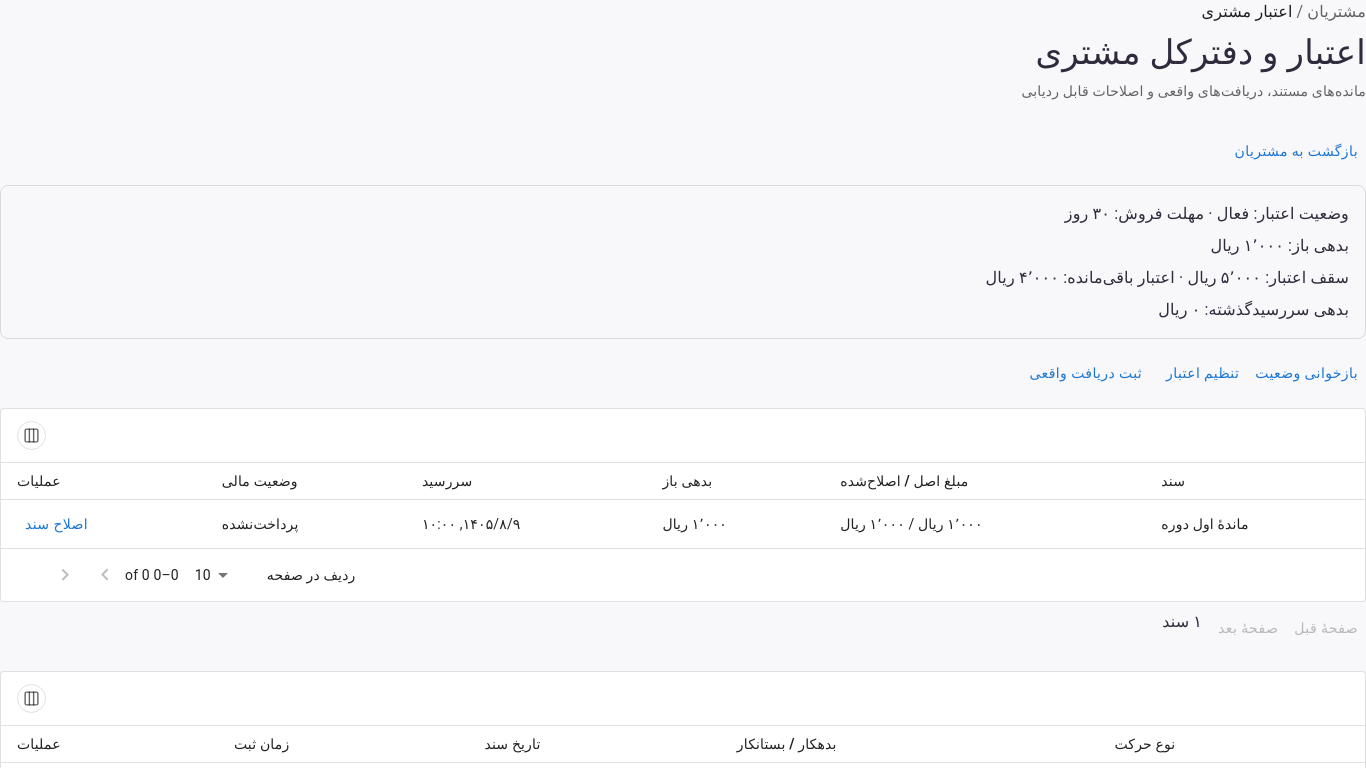
Test case: Credit operator workflow and ambiguous outcome recovery › does not replay an ambiguous write if reconciliation itself fails
Click the button "ثبت دریافت واقعی" at (1086, 374), box [1022,355,1150,392]
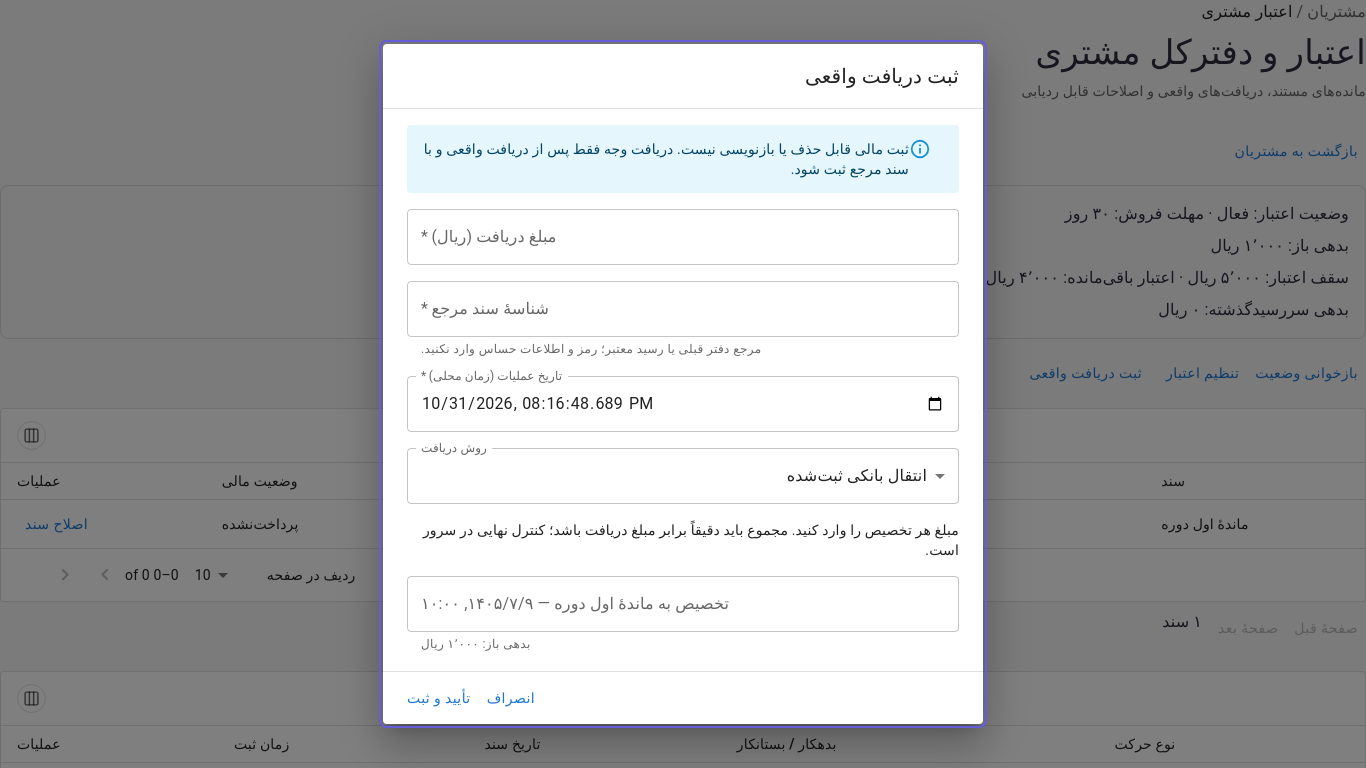
Type "500" into the field labelled "مبلغ دریافت (ریال)" at (683, 237), box [407,209,959,265]
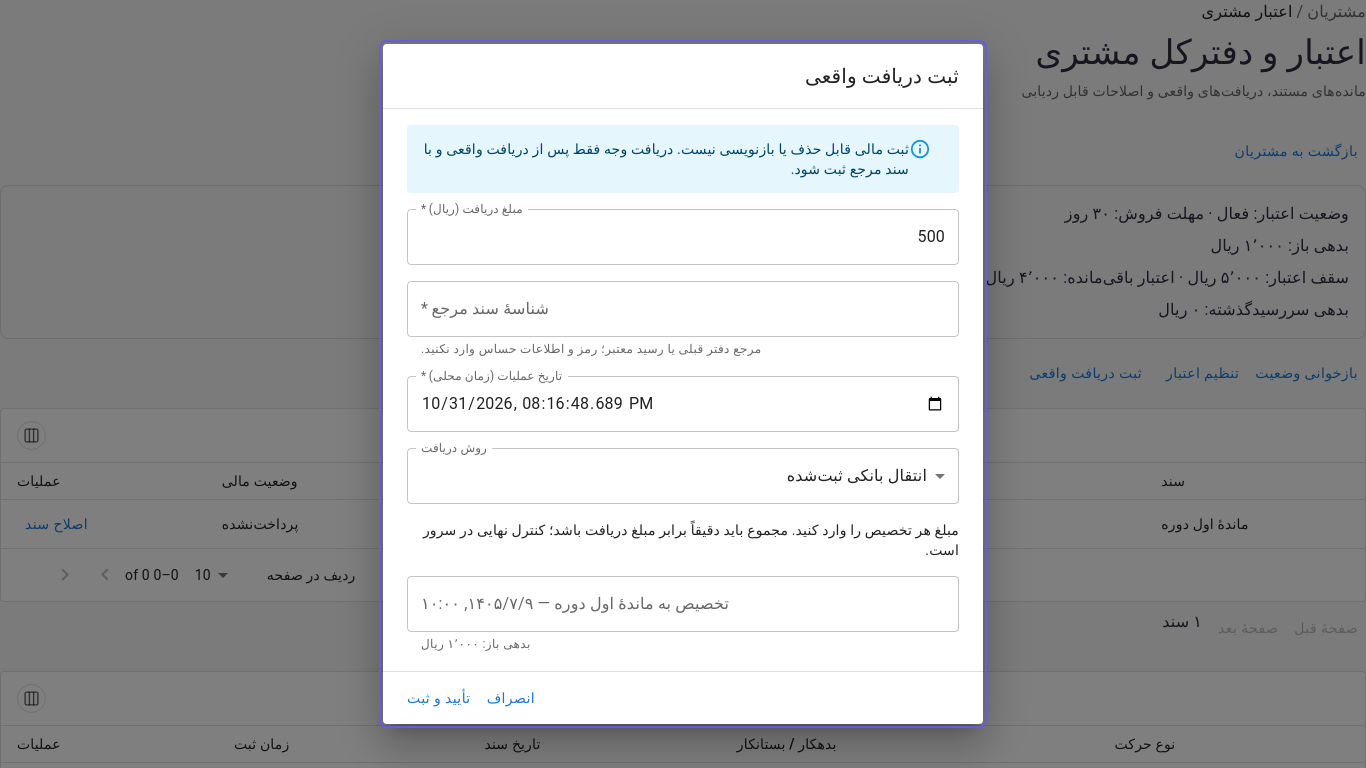
Type "isolated-receipt-reference" into the field labelled "شناسهٔ سند مرجع" at (683, 309), box [407,281,959,337]
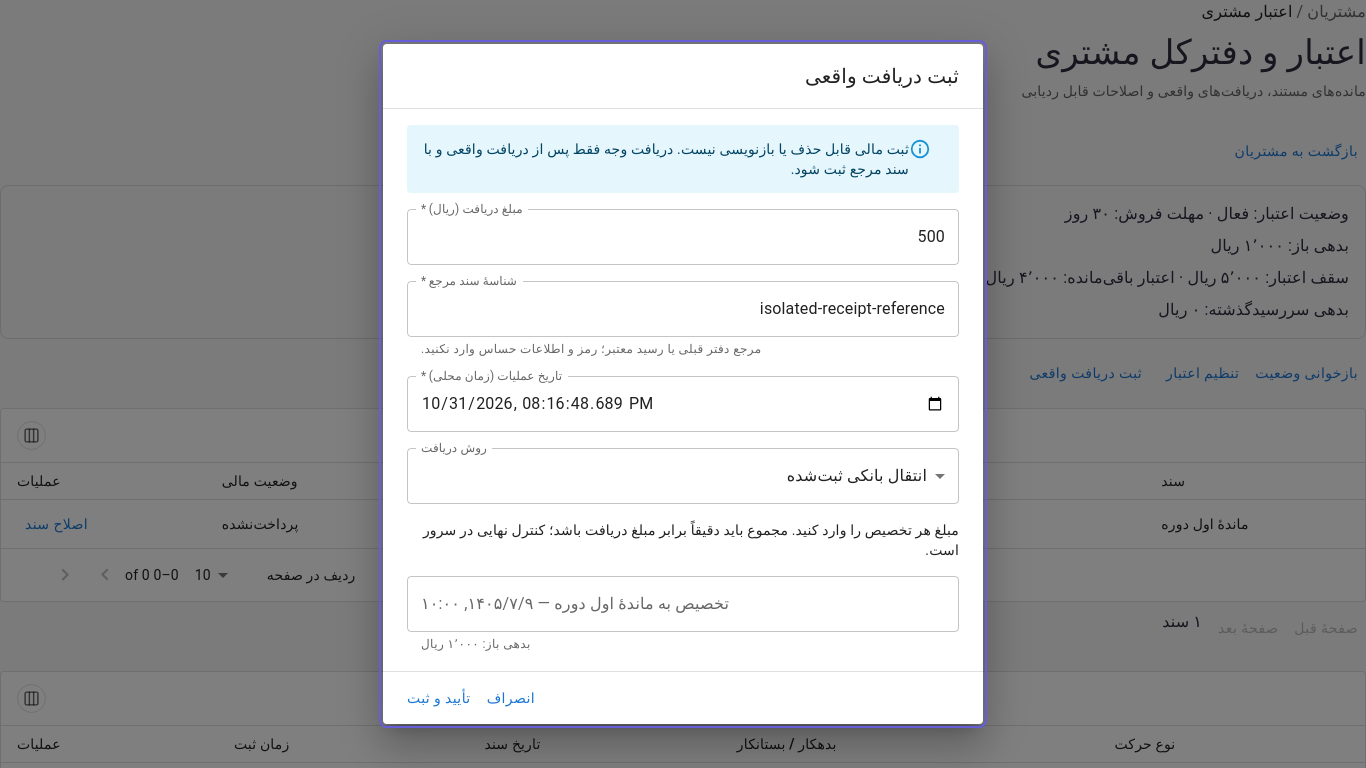
Type "500" into the field labelled "تخصیص به ماندهٔ اول دوره — ۱۴۰۵/۷/۹, ۱۰:۰۰" at (683, 604), box [407,576,959,632]
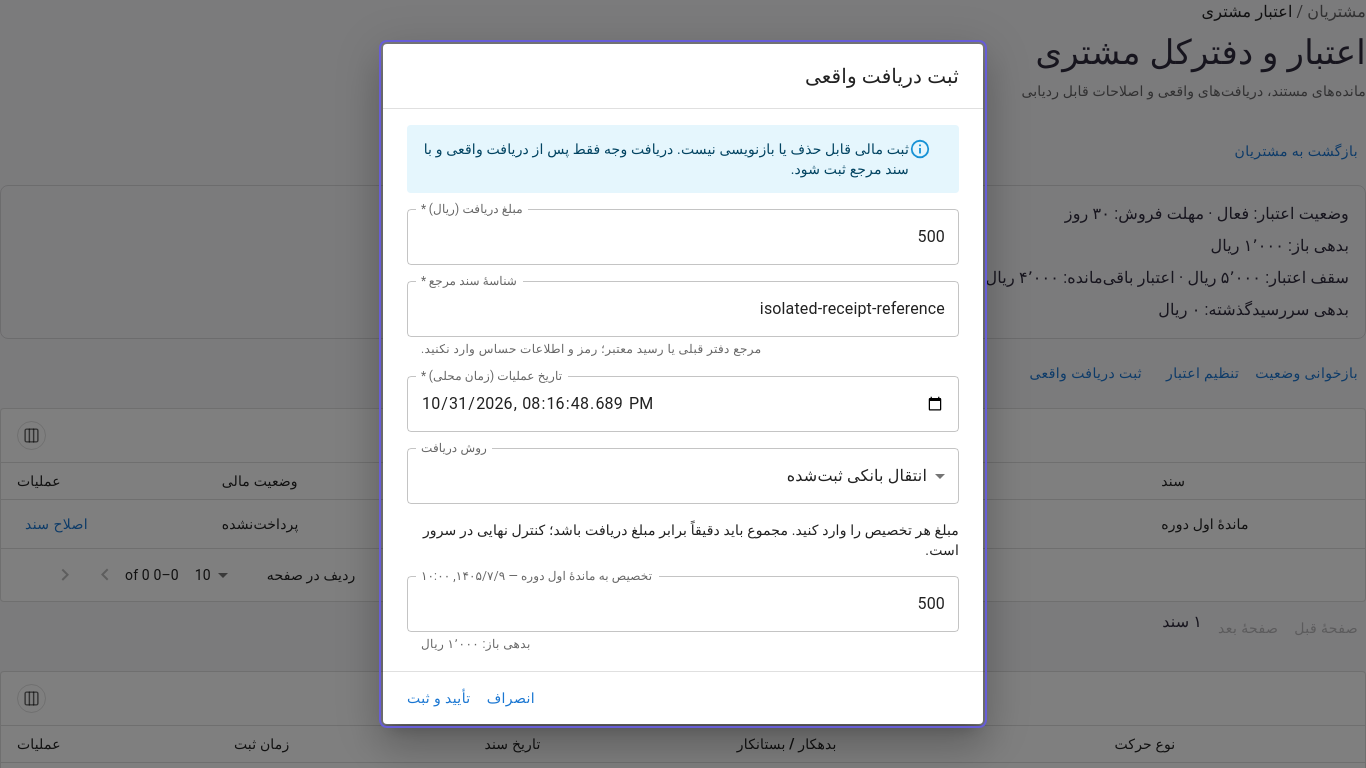
Click the button "تأیید و ثبت" at (439, 698), box [399,680,479,716]
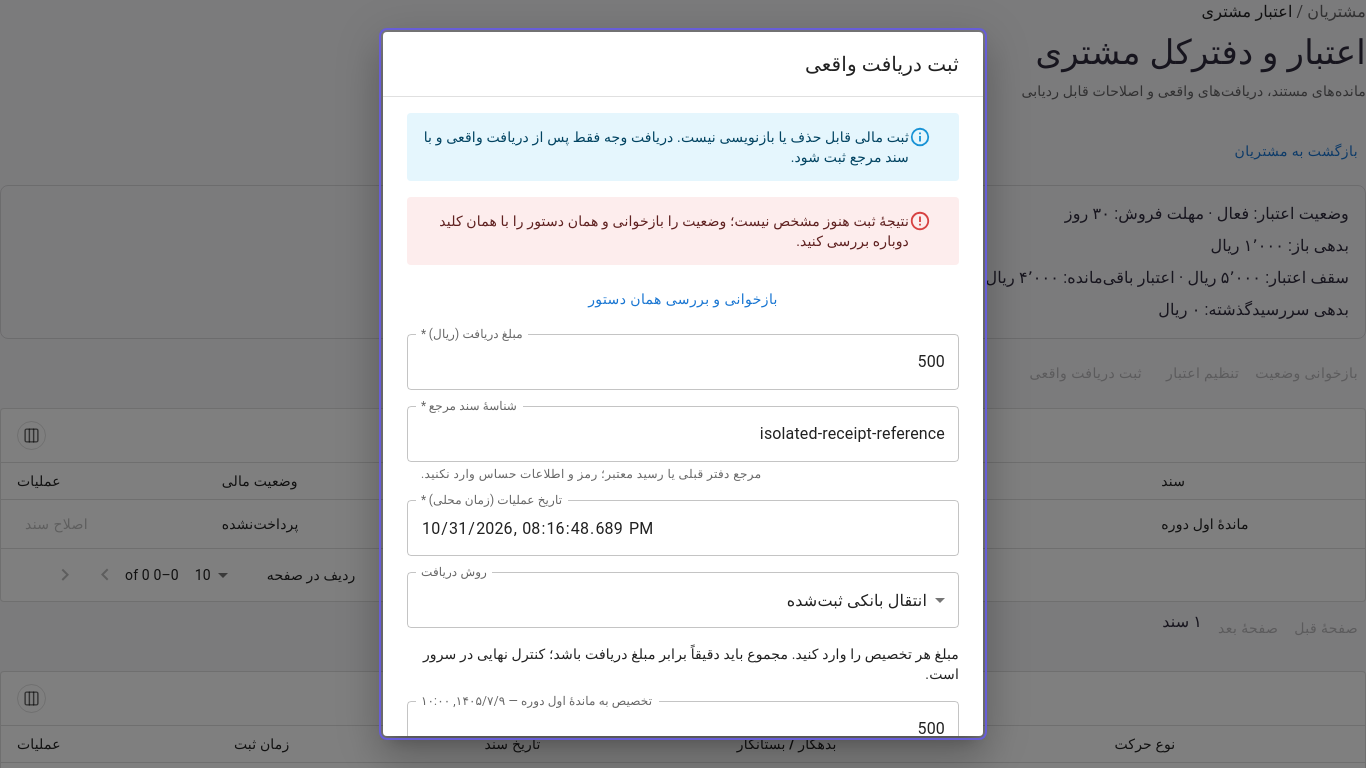
Click the button "بازخوانی و بررسی همان دستور" at (683, 299), box [407,281,959,318]
(page scrolled)
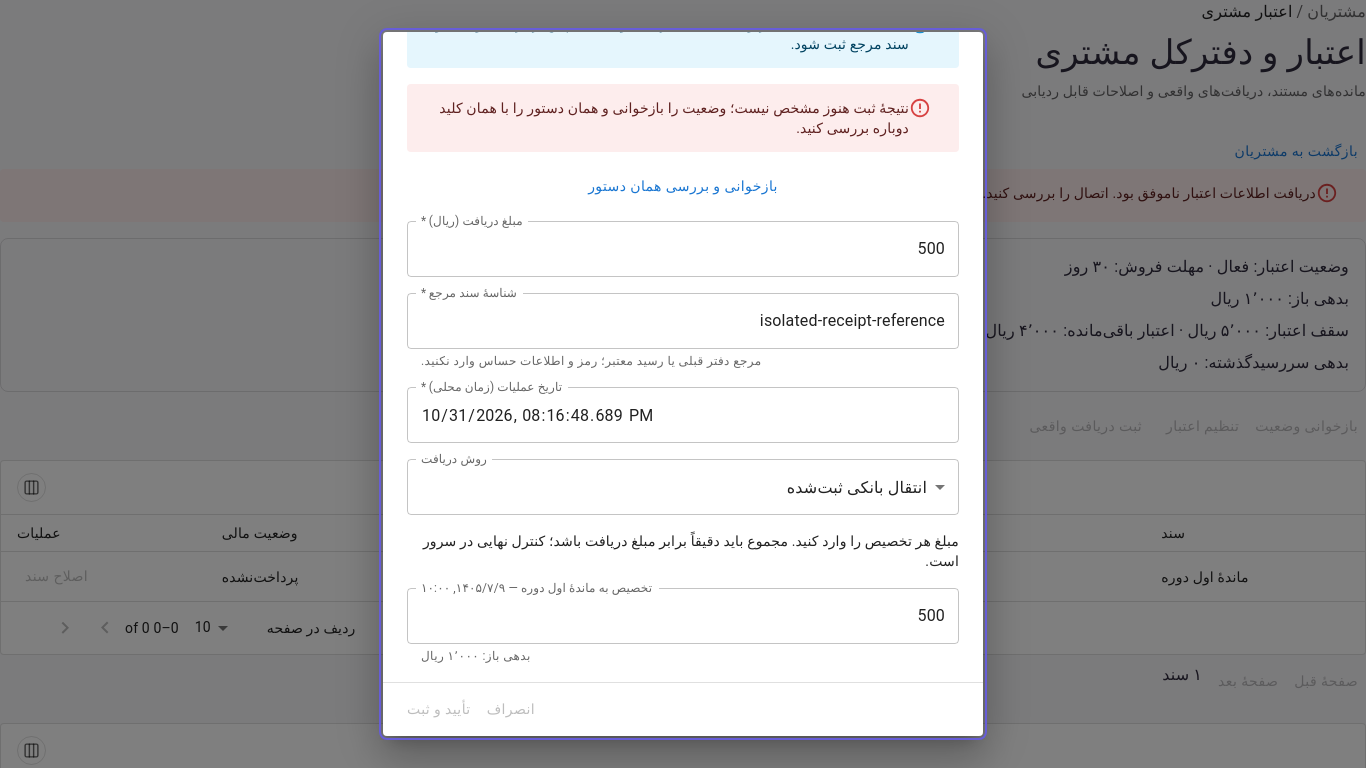
Expected: the button "تأیید و ثبت" is disabled, [399,691,479,728]
